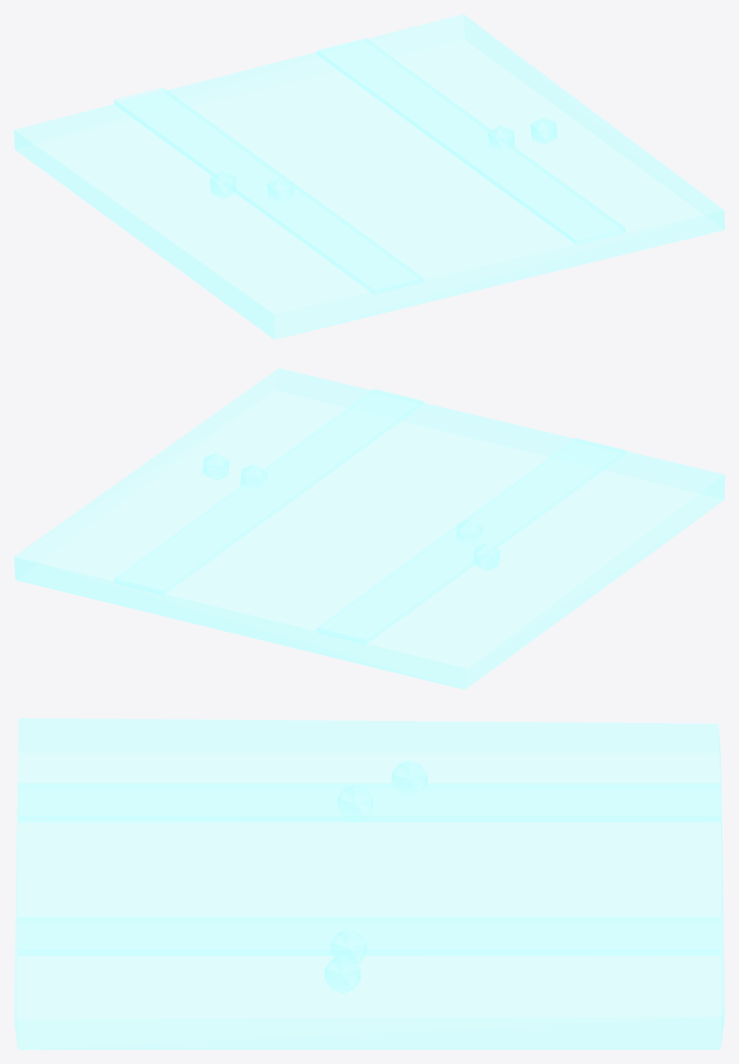
File: GH_Road_Straight.fbx
3 views of the same model, one above another, from view 1: azimuth 30°, elevation 25°; view 2: azimuth 150°, elevation 25°; view 3: azimuth 270°, elevation 25° (orthographic). The views are drawn at different scales.
Visible parts, largest first — view 1: SM_Road_Straight; view 2: SM_Road_Straight; view 3: SM_Road_Straight.
Boxes of the visible parts, x1,y1,x2,y2 form: SM_Road_Straight: (14,14,724,339); SM_Road_Straight: (14,368,724,689); SM_Road_Straight: (14,718,724,1049).
Bounding box in the file's own units: 2.01 × 0.17 × 2.02.
